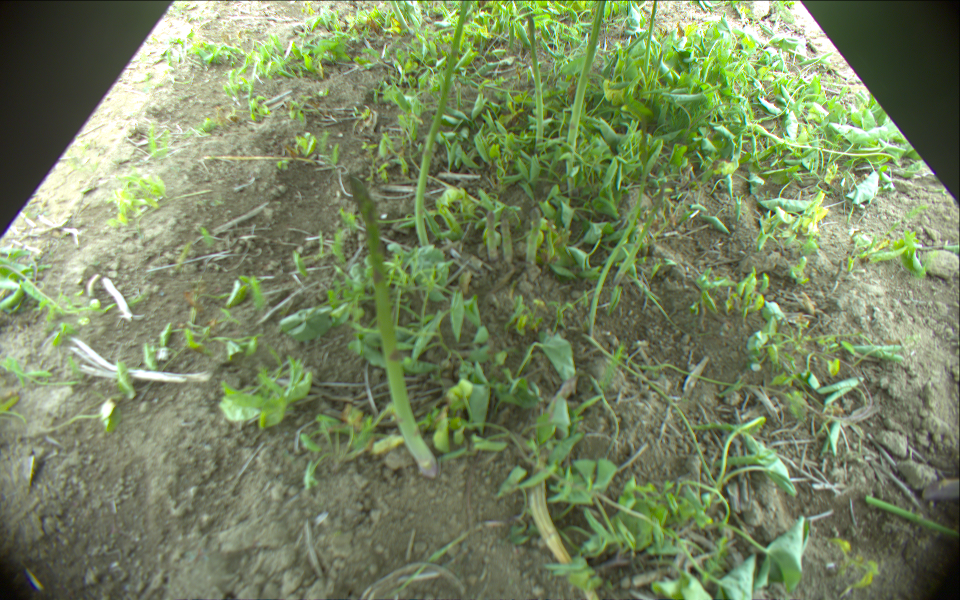aspa: (346, 172, 436, 477), (585, 130, 650, 337), (414, 1, 468, 247), (527, 469, 599, 600), (566, 1, 603, 190), (617, 185, 665, 289), (528, 14, 542, 148), (643, 1, 658, 77), (526, 206, 540, 269), (485, 213, 497, 266), (499, 211, 511, 263)
